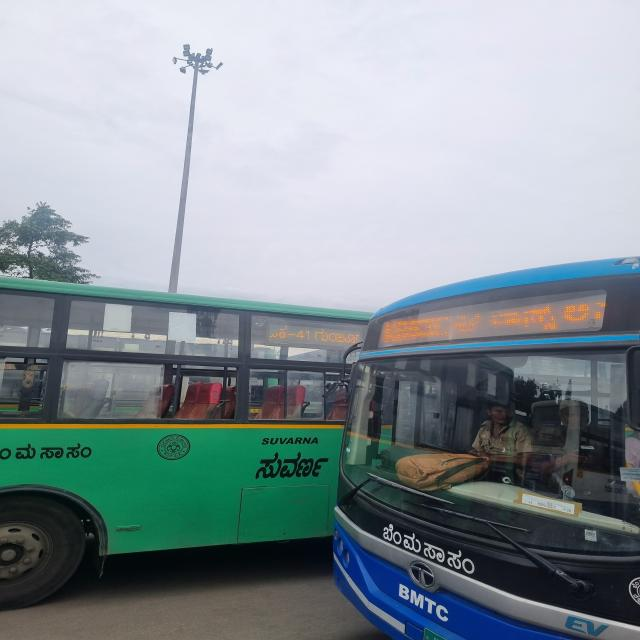bus: (7, 250, 369, 601), (331, 230, 640, 640)
display: (378, 300, 612, 344), (267, 325, 362, 347), (272, 327, 312, 342)
dnumber: (384, 318, 448, 342)
